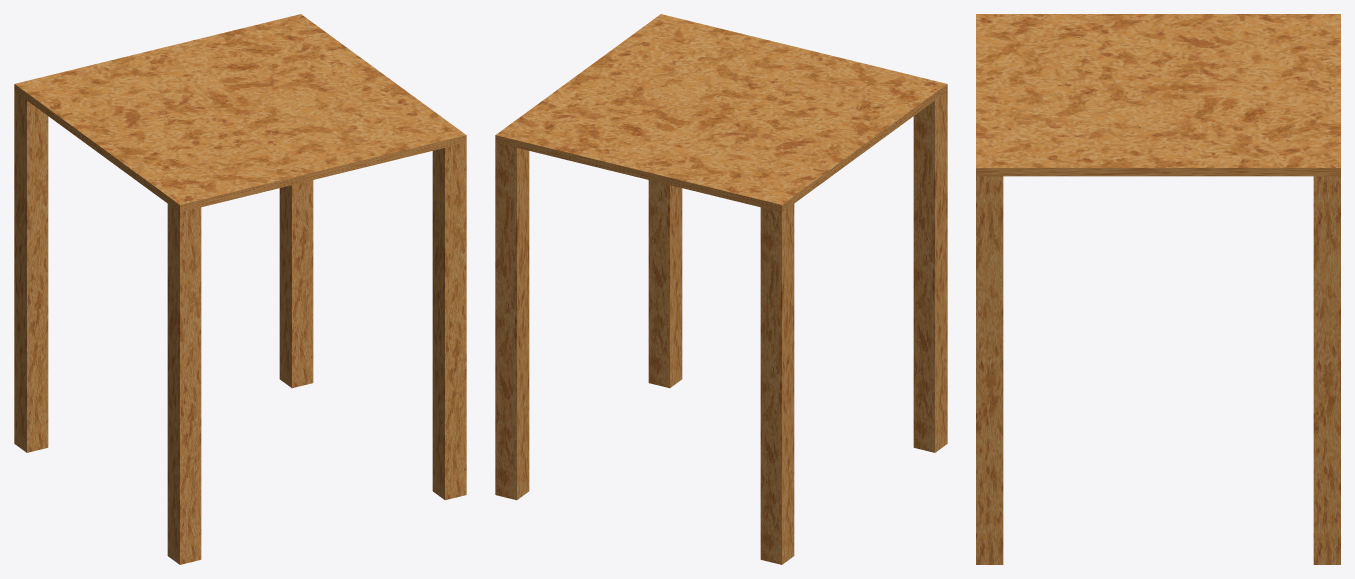
File: Foundation.fbx
3 renders of one model, left to right at view 1: azimuth 30°, elevation 25°; view 2: azimuth 150°, elevation 25°; view 3: azimuth 270°, elevation 25°, orthographic. The views are drawn at different scales.
Parts seen in each view (by area): view 1: Cube, Cube.003, Cube.004, Cube.001, Cube.002; view 2: Cube, Cube.001, Cube.002, Cube.003, Cube.004; view 3: Cube, Cube.002, Cube.004.
Part boxes in pixels (x1,y1,x2,y2): Cube: (14,14,466,212); Cube.003: (167,204,201,564); Cube.004: (432,142,466,500); Cube.001: (14,91,48,452); Cube.002: (279,180,313,388); Cube: (495,14,947,212); Cube.001: (760,204,794,564); Cube.002: (495,142,529,500); Cube.003: (913,91,947,452); Cube.004: (648,180,682,388); Cube: (976,14,1340,176); Cube.002: (1313,176,1340,564); Cube.004: (976,176,1003,564).
Bounding box in the file's own units: 800 × 960 × 800.
